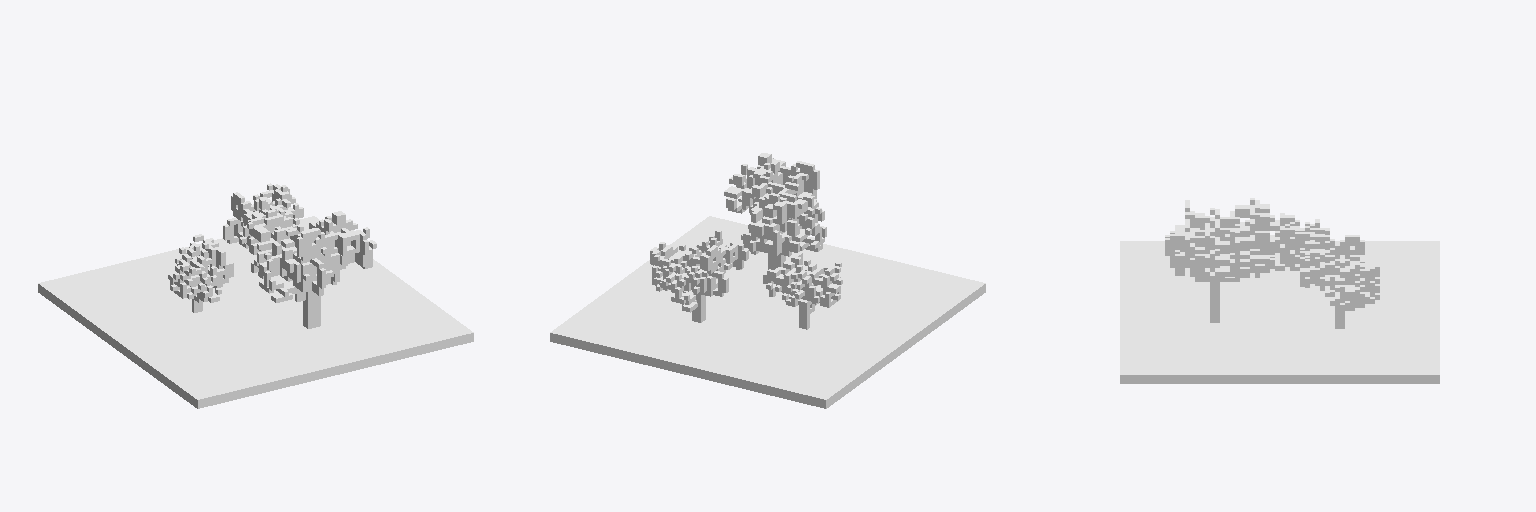
Rendered from fruit-trees.obj.
3 renders of one model, left to right at view 1: azimuth 30°, elevation 25°; view 2: azimuth 150°, elevation 25°; view 3: azimuth 270°, elevation 25°, orthographic.
Visible parts, largest first — view 1: fruit-trees; view 2: fruit-trees; view 3: fruit-trees.
Boxes of the visible parts, x1=… form: fruit-trees: x1=38, y1=183, x2=473, y2=408; fruit-trees: x1=550, y1=153, x2=985, y2=408; fruit-trees: x1=1120, y1=198, x2=1439, y2=383.
Bounding box in the file's own units: 64 × 27 × 64.